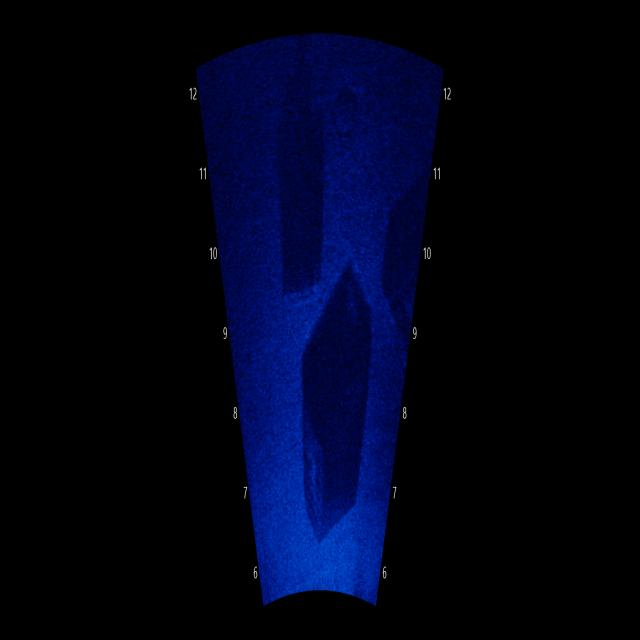square: (292, 249, 382, 564), (272, 86, 330, 306)
